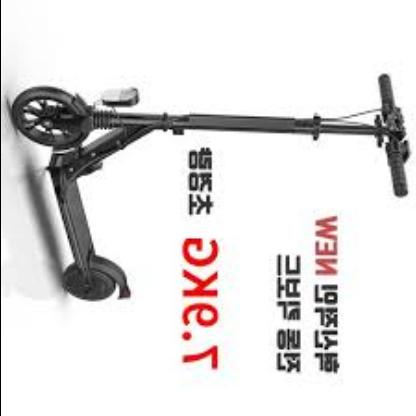bike: (7, 63, 416, 415), (11, 80, 415, 303)
